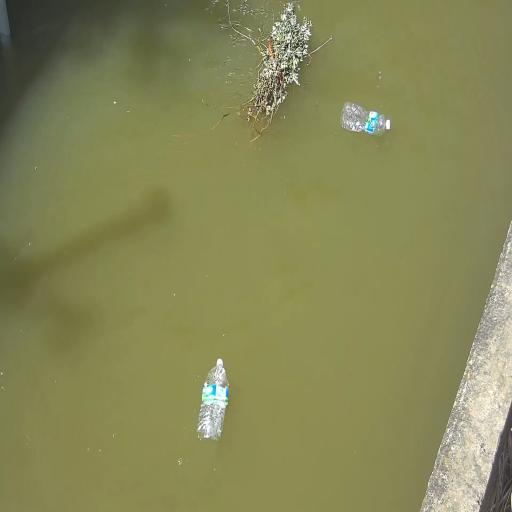plastic: (198, 359, 228, 440), (340, 101, 390, 136)
twig: (211, 0, 332, 143)
